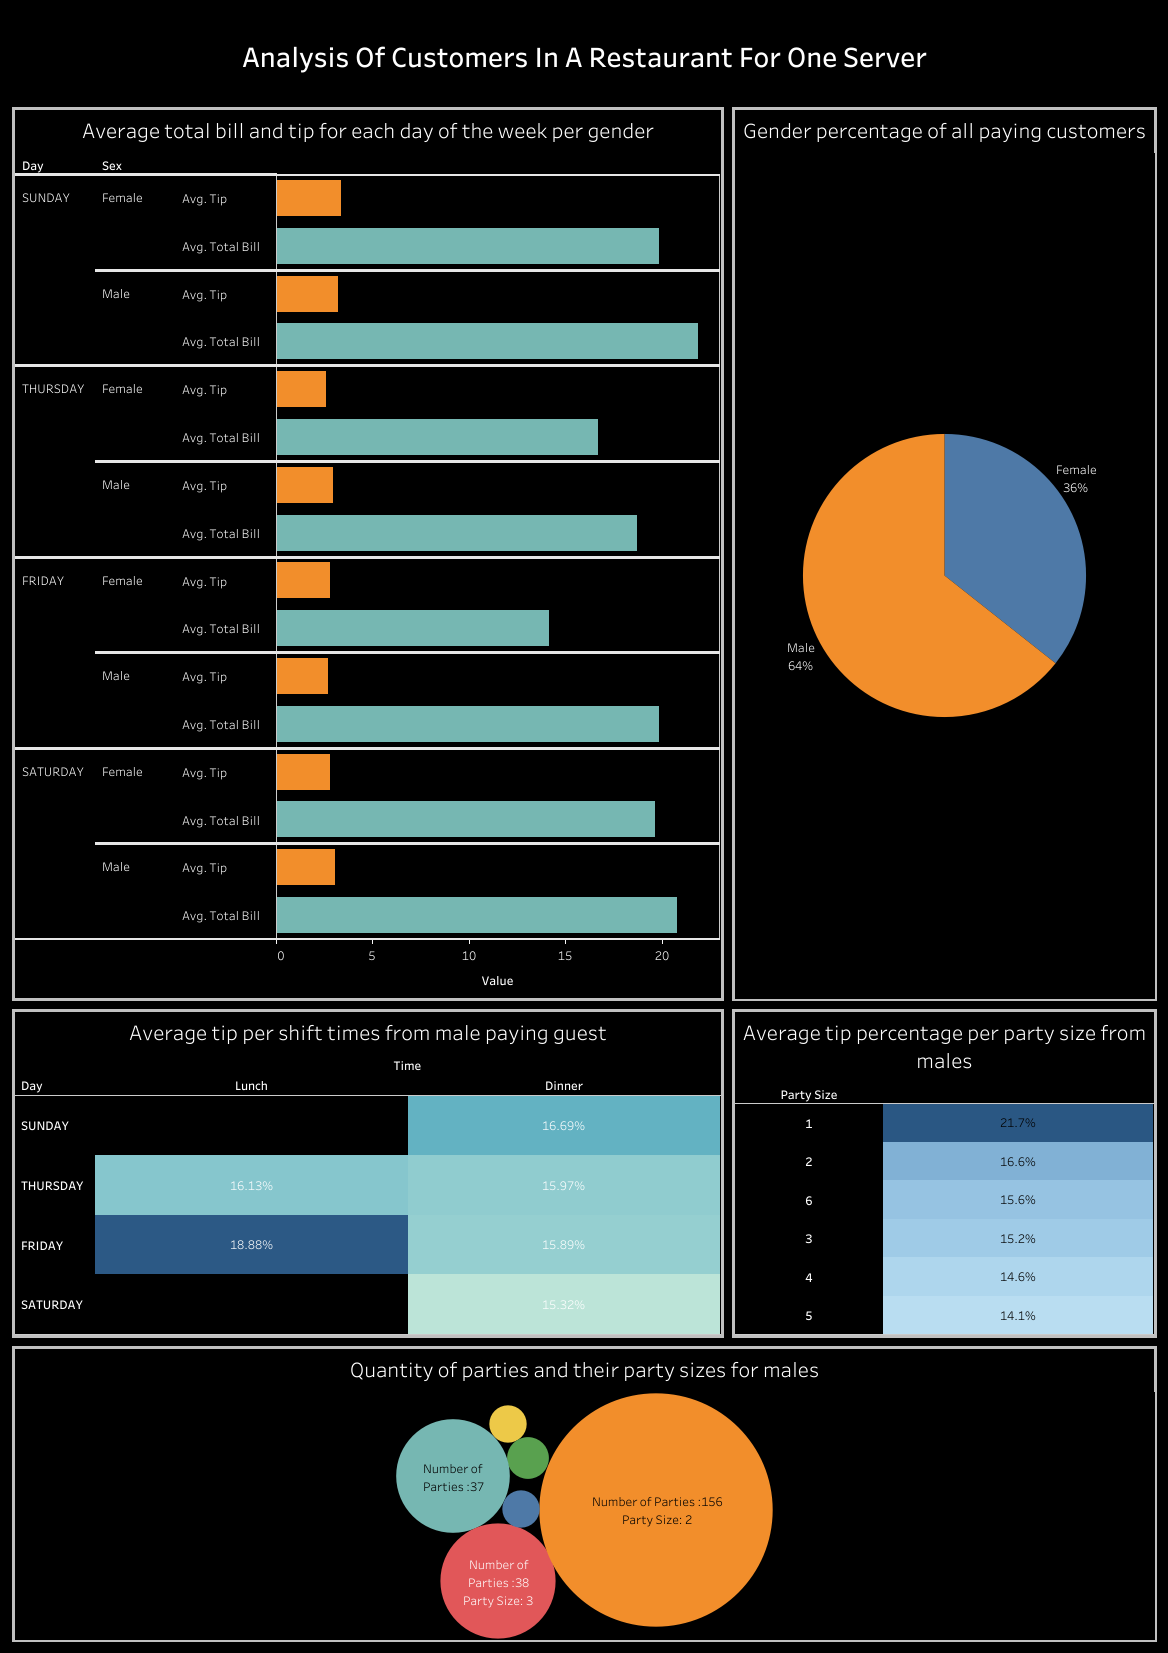

What the dashboard file says about the page in this screenshot:
{"tool":"tableau","page":{"name":"Dashboard 1","canvas":[1169,1654],"ordinal":0},"visuals":[{"type":"text","box":[8,8,1153,95.3]},{"type":"worksheet","title":"avg bill","mark":"Automatic","rows":["day","sex"],"box":[8,103.3,719.7,901.7]},{"type":"worksheet","title":"m/f","mark":"Pie","box":[727.7,103.3,433.3,901.7]},{"type":"worksheet","title":"avg. tip /shift","mark":"Square","rows":["day"],"cols":["time"],"box":[8,1005,720,337]},{"type":"worksheet","title":"tip%party","mark":"Square","rows":["size"],"box":[728,1005,433,337]},{"type":"worksheet","title":"#party","mark":"Circle","box":[8,1342,1153,304]}]}

Visuals, with their boxes in screenshot pixels (x1, y1, x2, y2), scaled from the page's 1169x1654 canvas onto the 1168x1653 screenshot:
text: bbox=(8, 8, 1160, 103)
"avg bill" worksheet: bbox=(8, 103, 727, 1004)
"m/f" worksheet (Pie marks): bbox=(727, 103, 1160, 1004)
"avg. tip /shift" worksheet (Square marks): bbox=(8, 1004, 727, 1341)
"tip%party" worksheet (Square marks): bbox=(727, 1004, 1160, 1341)
"#party" worksheet (Circle marks): bbox=(8, 1341, 1160, 1645)
